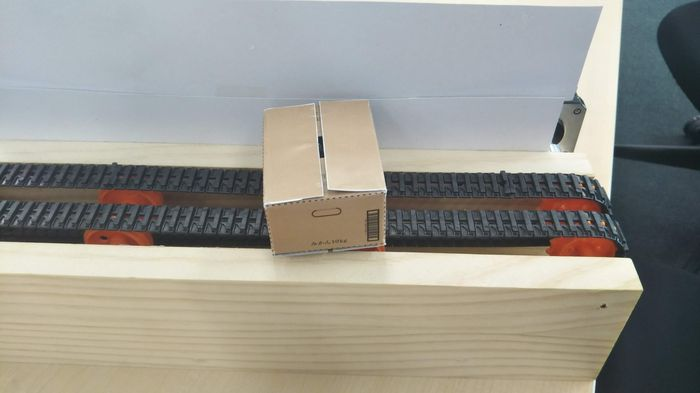box1: (259, 94, 389, 257)
